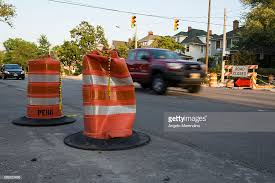barrel: (84, 54, 133, 136), (26, 60, 61, 118)
